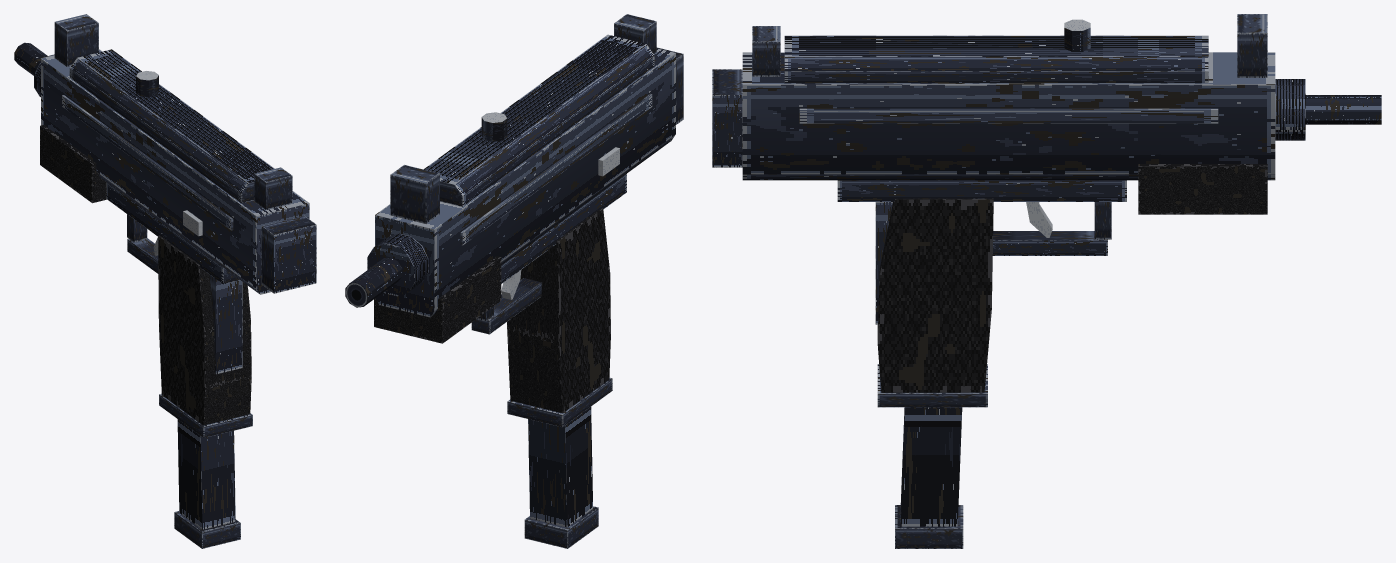
File: smg_uzi_base.glb
3 views of the same model, side by side, from view 1: azimuth 30°, elevation 25°; view 2: azimuth 150°, elevation 25°; view 3: azimuth 270°, elevation 25° (orthographic). The views are drawn at different scales.
Parts seen in each view (by area): view 1: receiver, grip, top_cover, magazine, handguard; view 2: receiver, grip, top_cover, magazine, handguard; view 3: receiver, grip, top_cover, magazine, handguard.
Boxes of the visible parts, bbox=[...] form: receiver: bbox=[14, 14, 316, 294]; grip: bbox=[158, 235, 252, 437]; top_cover: bbox=[69, 49, 274, 203]; magazine: bbox=[174, 419, 240, 548]; handguard: bbox=[40, 125, 106, 203]; receiver: bbox=[345, 14, 683, 334]; grip: bbox=[507, 208, 612, 427]; top_cover: bbox=[424, 34, 654, 206]; magazine: bbox=[524, 407, 598, 548]; handguard: bbox=[374, 256, 501, 343]; receiver: bbox=[712, 14, 1381, 255]; grip: bbox=[875, 198, 993, 407]; top_cover: bbox=[784, 19, 1208, 83]; magazine: bbox=[895, 407, 963, 548]; handguard: bbox=[1138, 164, 1267, 214].
Size of the model in its own units: 0.046 by 0.298 by 0.352.
2 materials, 2 textured.
